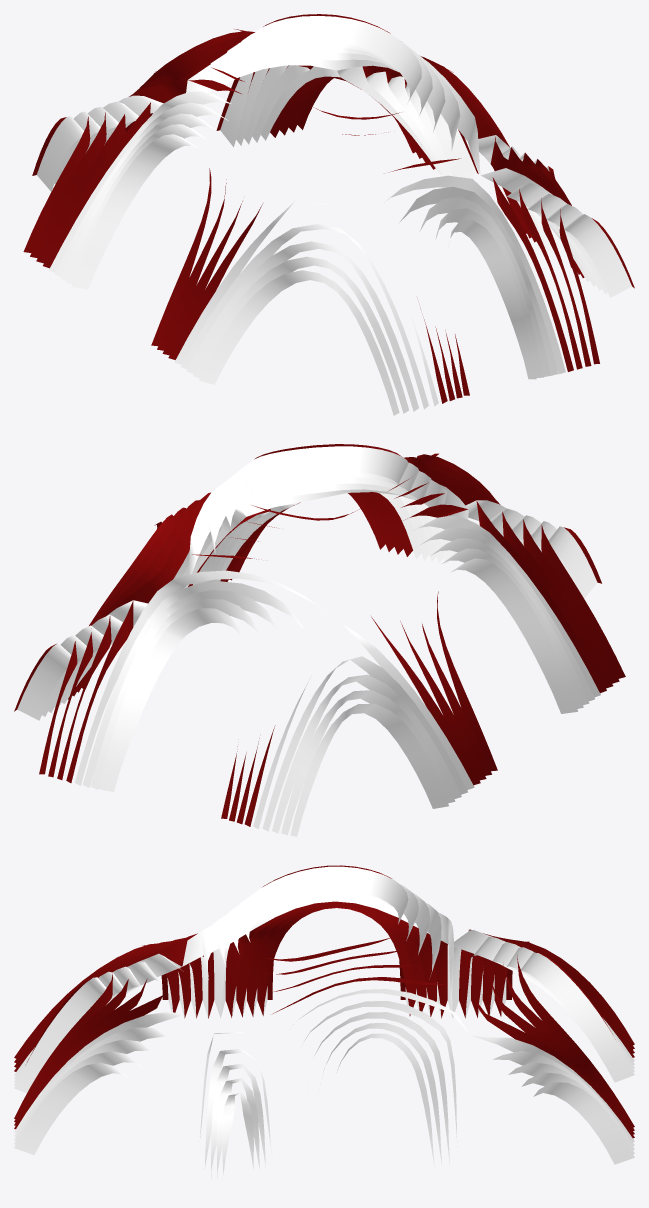
File: Pavilion.gltf
The picture shows the model from 3 angles, top to bottom: view 1: azimuth 30°, elevation 25°; view 2: azimuth 150°, elevation 25°; view 3: azimuth 270°, elevation 25°; orthographic projection. The views are drawn at different scales.
Parts seen in each view (by area): view 1: Object_36, Object_21, Object_1, Object_3, Object_2, Object_31, Object_4, Object_40, Object_35, Object_46, Object_39, Object_34 (+46 smaller); view 2: Object_36, Object_21, Object_16, Object_26, Object_19, Object_20, Object_28, Object_29, Object_27, Object_18, Object_40, Object_30 (+38 smaller); view 3: Object_36, Object_16, Object_46, Object_31, Object_6, Object_75, Object_74, Object_73, Object_72, Object_40, Object_39, Object_38 (+43 smaller).
Boxes of the visible parts, x1,y1,x2,y2 form: Object_36: (250, 16, 421, 101); Object_21: (71, 134, 198, 289); Object_1: (199, 270, 399, 415); Object_3: (187, 241, 418, 411); Object_2: (193, 256, 409, 413); Object_31: (448, 220, 536, 379); Object_4: (181, 224, 428, 409); Object_40: (186, 58, 480, 174); Object_35: (384, 175, 565, 374); Object_46: (564, 214, 631, 297); Object_39: (210, 52, 460, 150); Object_34: (399, 186, 558, 375); Object_36: (244, 446, 408, 500); Object_21: (450, 558, 577, 713); Object_16: (106, 608, 243, 791); Object_26: (290, 703, 448, 836); Object_19: (82, 581, 304, 787); Object_20: (75, 570, 326, 785); Object_28: (272, 674, 461, 833); Object_29: (262, 656, 467, 831); Object_27: (281, 690, 455, 835); Object_18: (90, 590, 280, 789); Object_40: (188, 485, 468, 574); Object_30: (253, 625, 474, 829); Object_36: (239, 866, 408, 942); Object_16: (521, 952, 634, 1082); Object_46: (14, 1062, 132, 1154); Object_31: (14, 977, 106, 1092); Object_6: (533, 1082, 634, 1164); Object_75: (225, 901, 447, 1018); Object_74: (236, 904, 436, 1017); Object_73: (247, 905, 426, 1016); Object_72: (257, 906, 415, 1015); Object_40: (182, 898, 453, 1009); Object_39: (202, 895, 441, 979); Object_38: (216, 892, 429, 966).
Size of the model in its own units: 8 by 4.26 by 11.
